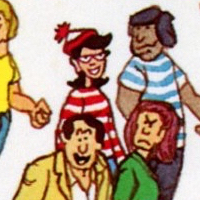wenda: (63, 19, 113, 90)
